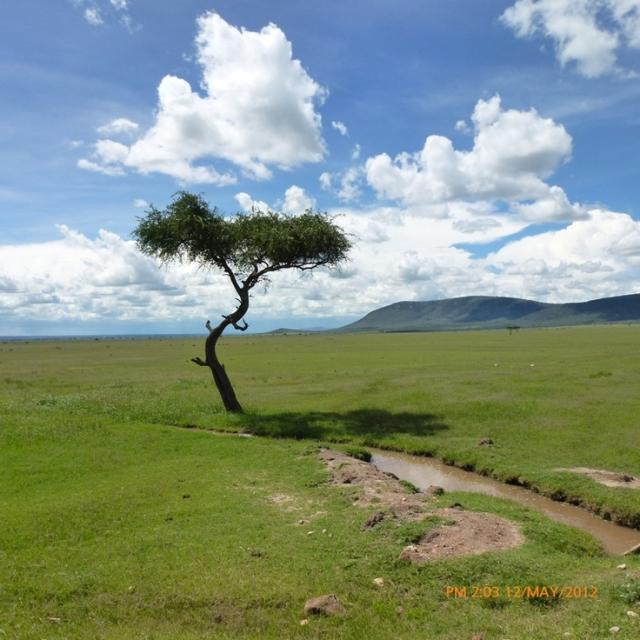Acacia: (138, 193, 355, 424)
